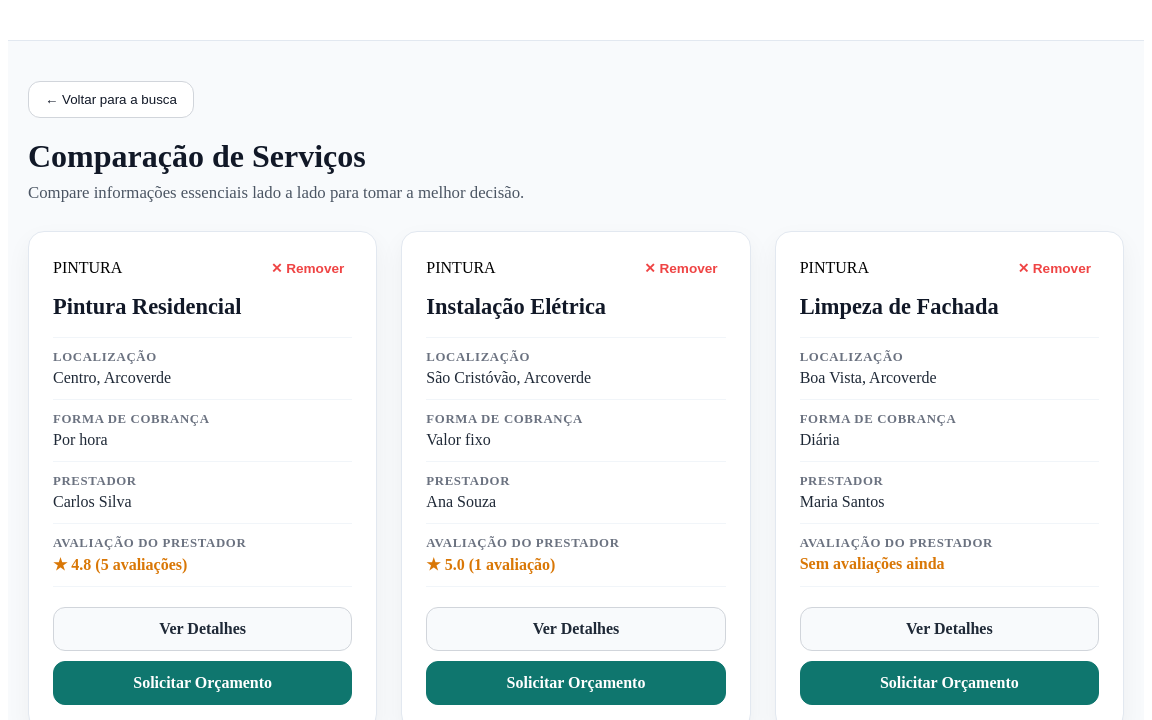
Página de Comparação de Serviços (CompararServicos) › deve remover um serviço da comparação e manter os demais quando houver 3 serviços
Expected: the heading "Pintura Residencial" is shown, [53, 294, 242, 319]
Click the button with aria-label "remover pintura residencial da comparação". click: (308, 268)
box: [263, 256, 352, 280]
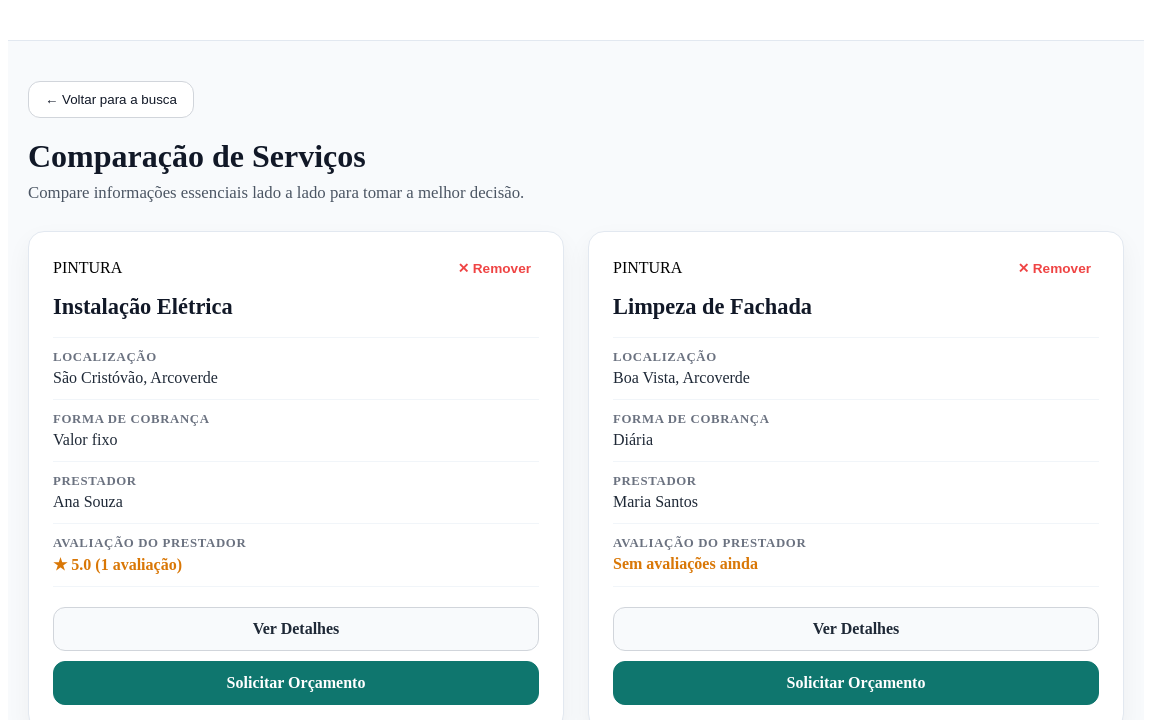
Expected: the heading "Instalação Elétrica" is shown, [53, 294, 233, 319]
Result: the heading "Pintura Residencial" is gone
